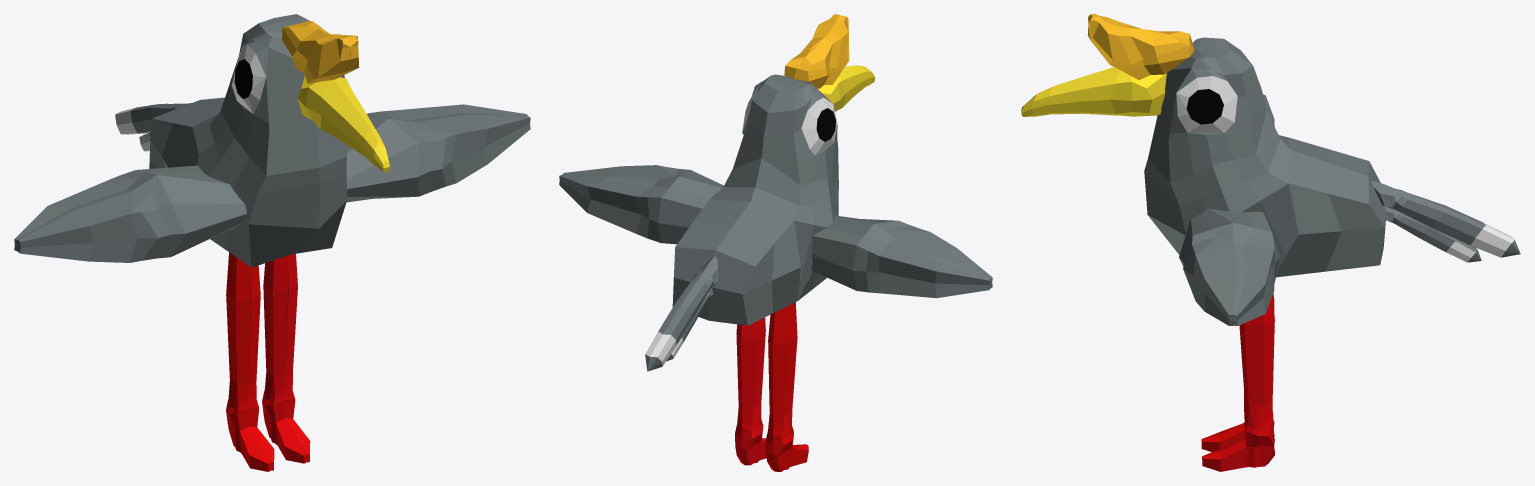
Rendered from kenyalang.glb.
3 views of the same model, side by side, from view 1: azimuth 30°, elevation 25°; view 2: azimuth 150°, elevation 25°; view 3: azimuth 270°, elevation 25° (orthographic). The views are drawn at different scales.
Parts seen in each view (by area): view 1: Cube.001; view 2: Cube.001; view 3: Cube.001.
Boxes of the visible parts, left/top/right/bottom form: Cube.001: left=14, top=14, right=530, bottom=471; Cube.001: left=559, top=14, right=992, bottom=471; Cube.001: left=1021, top=14, right=1520, bottom=471.
Size of the model in its own units: 3.81 by 3.38 by 3.45.
